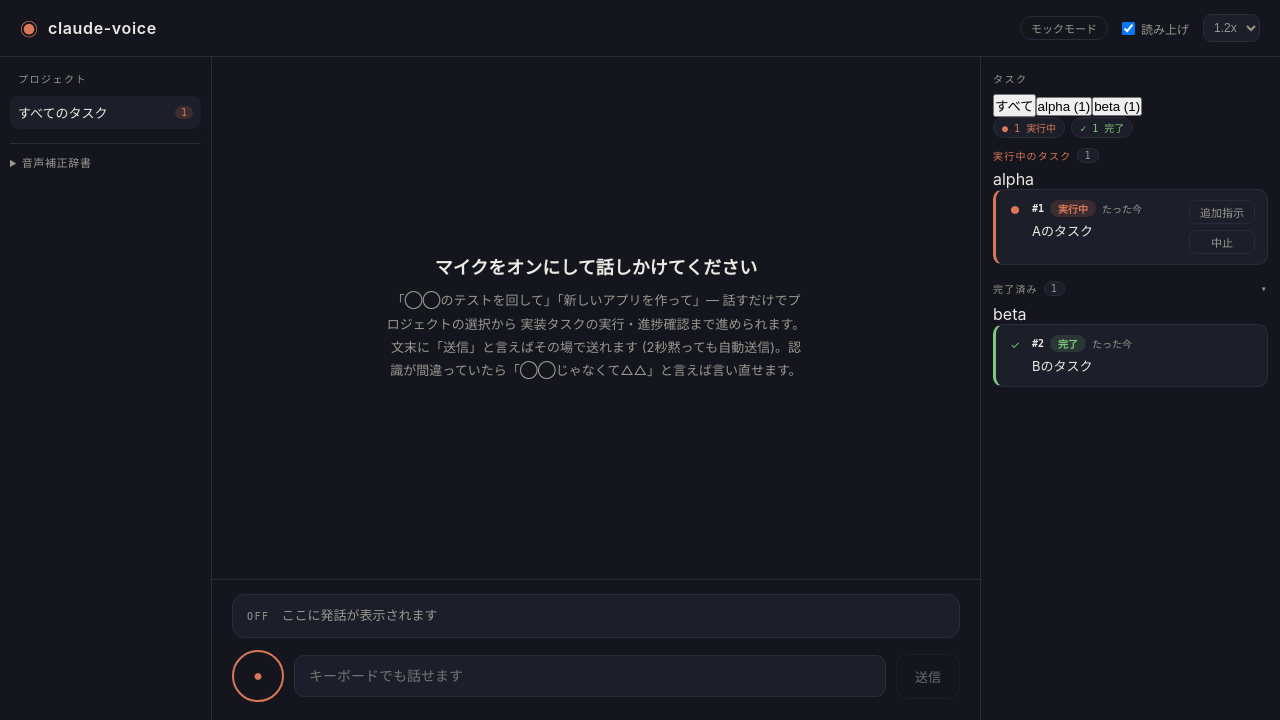
Test: タスク一覧のプロジェクト別グルーピングと絞り込み › プロジェクトチップで絞り込め、ワークスペースは切り替わらない
This screenshot has width=1280, height=720.
Expected: the text "Aのタスク" is shown, [1032,221,1093,241]
Click the button "beta (1)" at (1117, 106), box [1092,97,1142,116]
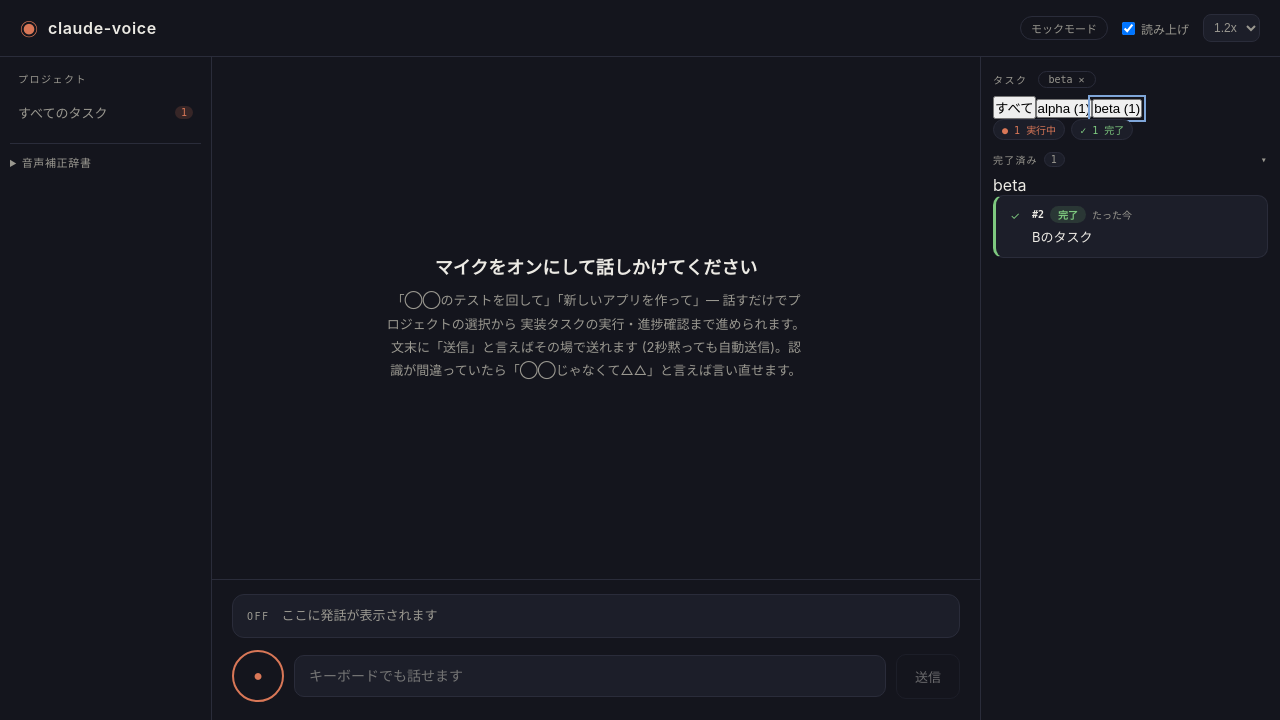
Expected: the text "Bのタスク" is shown, [1032,227,1092,247]
Result: the button "Aのタスク" is gone
Click the button "すべて" at (1014, 108), box [993,96,1036,119]
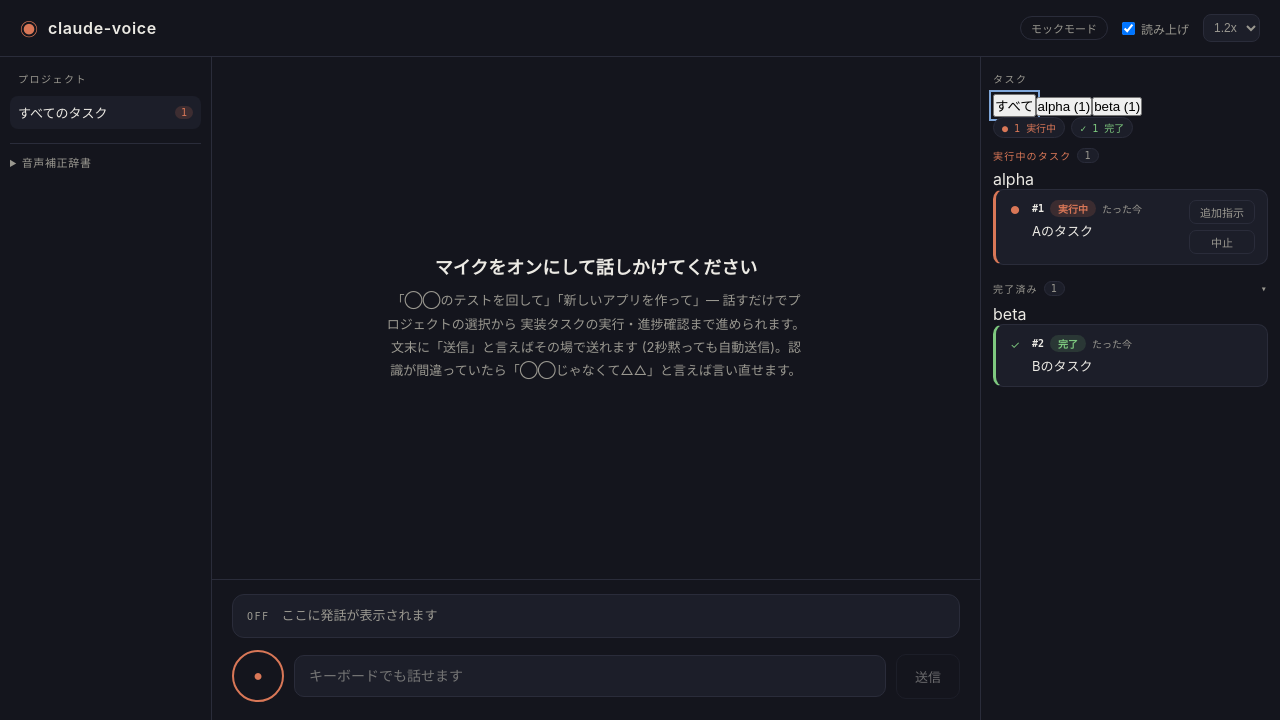
Result: the text "Aのタスク" is shown at [1032,221,1093,241]
